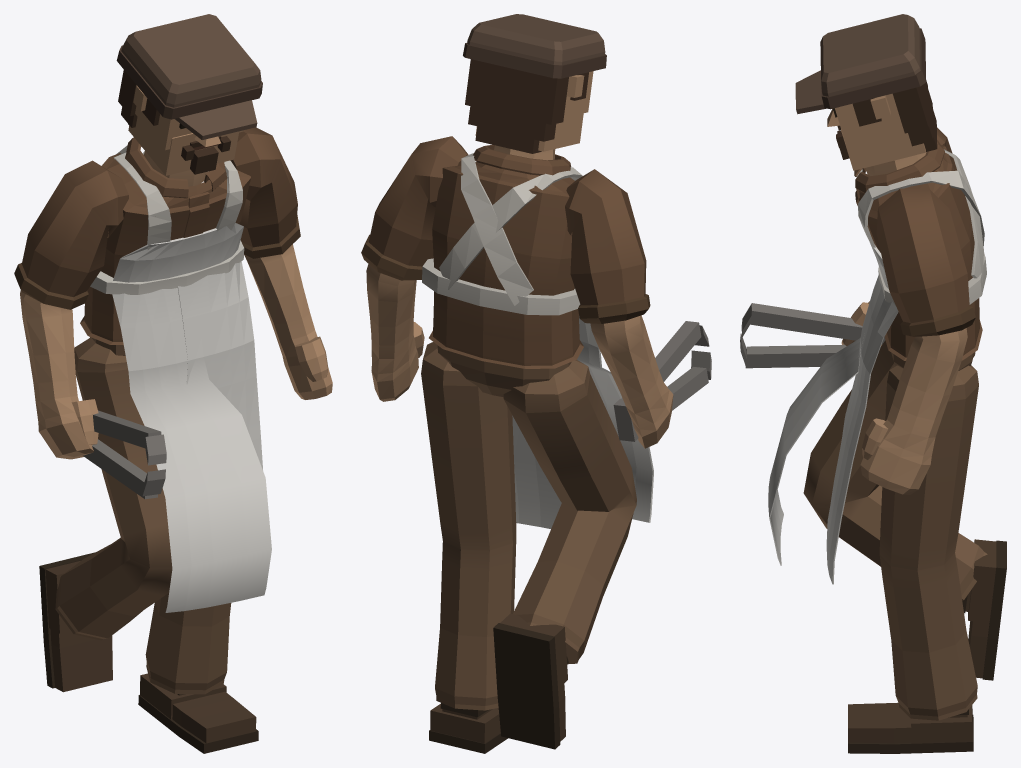
The model's file is street-vendor-139de3__walk2.glb.
3 views of the same model, side by side, from view 1: azimuth 30°, elevation 25°; view 2: azimuth 150°, elevation 25°; view 3: azimuth 270°, elevation 25° (orthographic). The views are drawn at different scales.
Visible parts, largest first — view 1: street-vendor-139de3__walk2; view 2: street-vendor-139de3__walk2; view 3: street-vendor-139de3__walk2.
Part boxes in pixels (left/top/right/bottom): street-vendor-139de3__walk2: left=14, top=14, right=332, bottom=753; street-vendor-139de3__walk2: left=361, top=14, right=711, bottom=753; street-vendor-139de3__walk2: left=740, top=14, right=1006, bottom=753.
Bounding box in the file's own units: 0.7337 × 1.72 × 0.5996.
